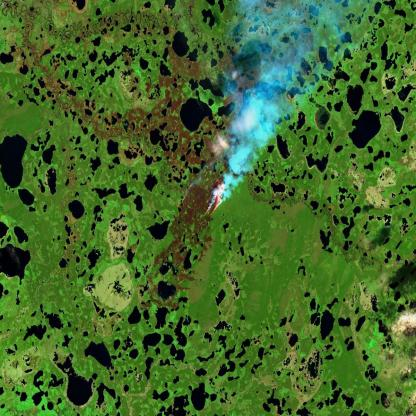fire: (172, 170, 231, 235)
